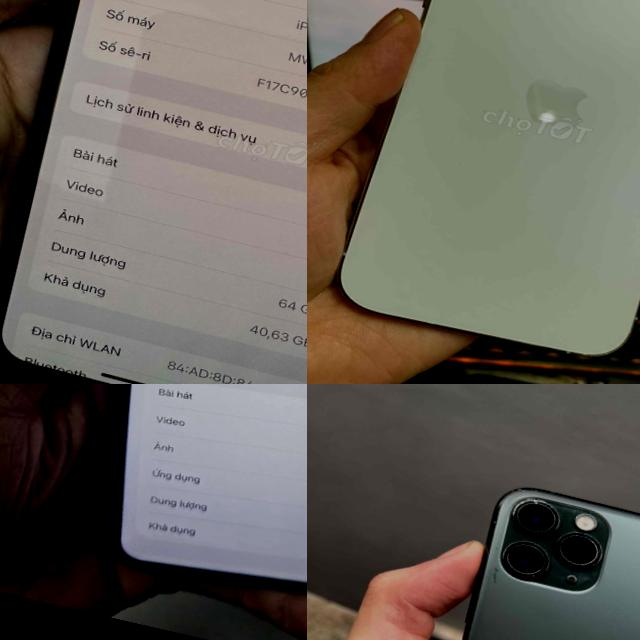gen_11: (0, 0, 307, 384), (26, 384, 307, 631), (387, 468, 640, 640)
gen_12_13: (323, 0, 640, 384)
